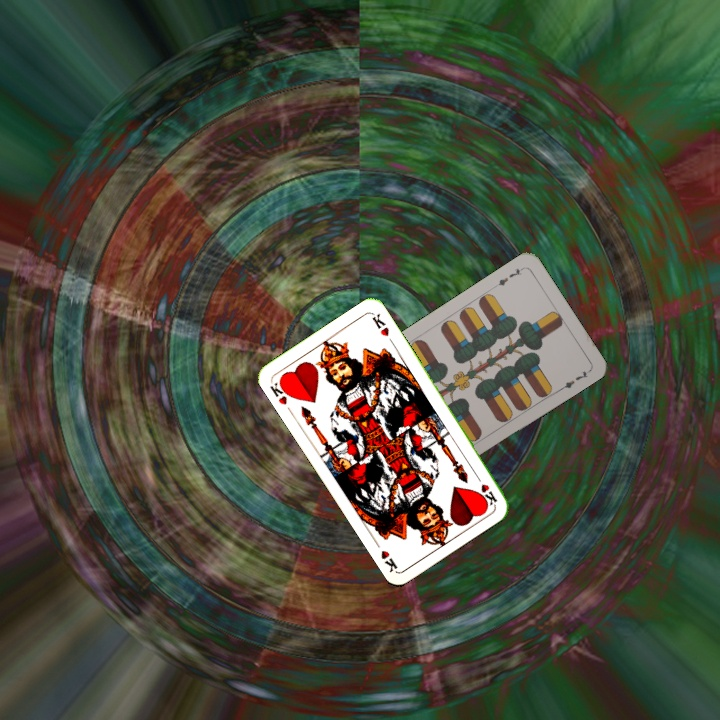E7: (494, 263, 526, 288)
HK: (471, 470, 500, 508), (266, 375, 294, 407)
